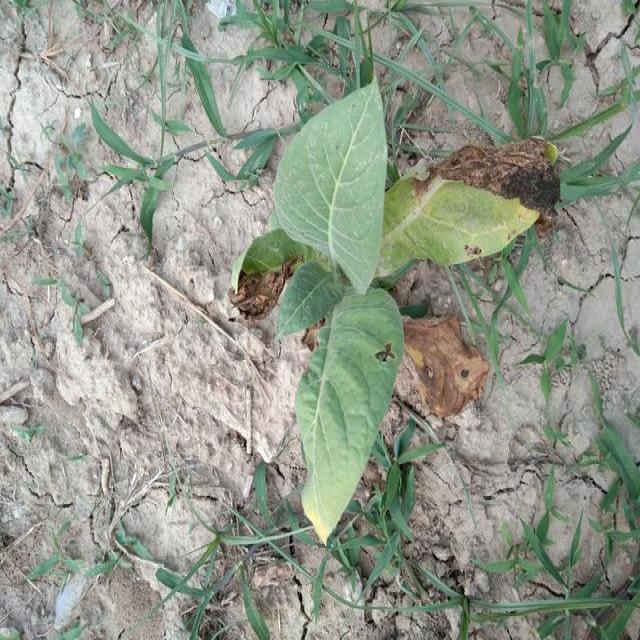crop: (222, 86, 564, 540)
